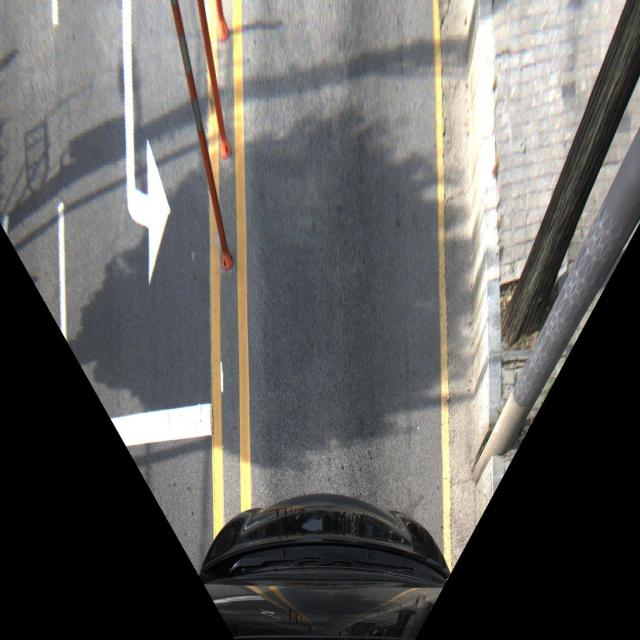left: (430, 230, 603, 640)
